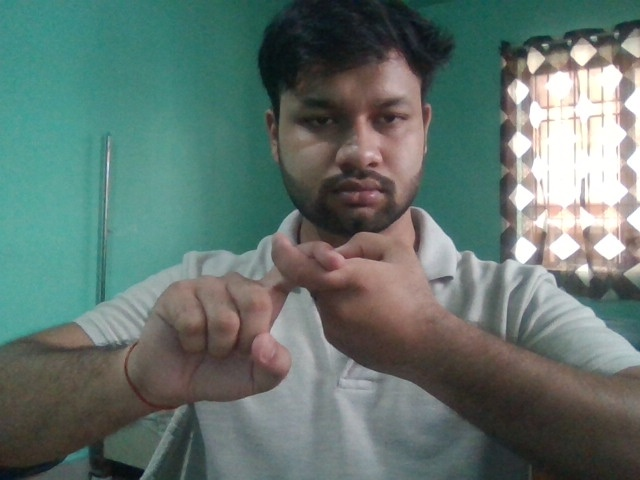Friend: (130, 229, 442, 405)
